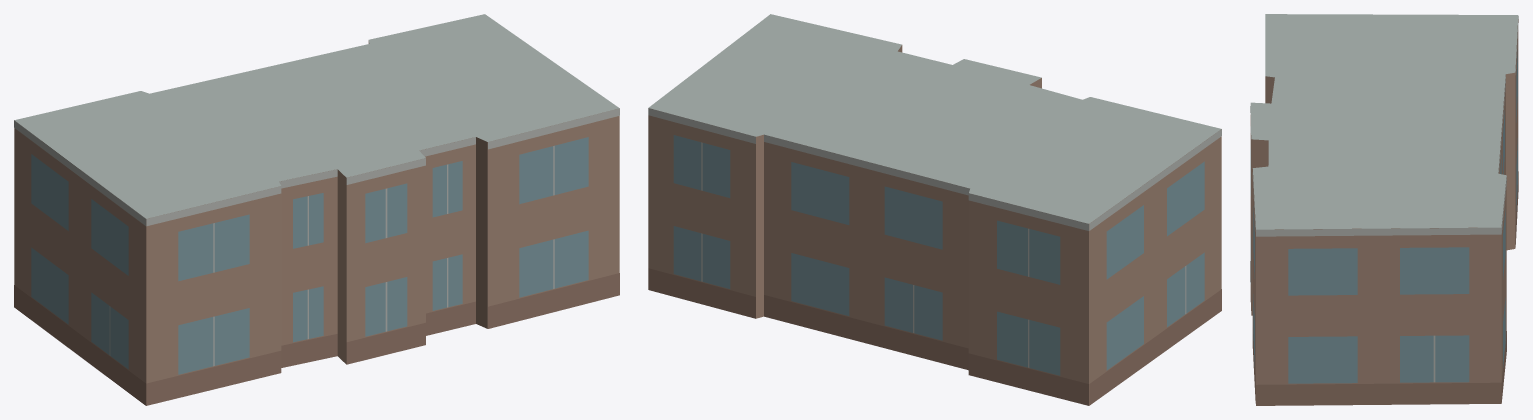
Rendered from survey-upis-32965567.glb.
3 views of the same model, side by side, from view 1: azimuth 30°, elevation 25°; view 2: azimuth 150°, elevation 25°; view 3: azimuth 270°, elevation 25° (orthographic). The views are drawn at different scales.
Visible parts, largest first — view 1: survey-upis-32965567.tmp; view 2: survey-upis-32965567.tmp; view 3: survey-upis-32965567.tmp.
Part boxes in pixels (x1,y1,x2,y2): survey-upis-32965567.tmp: (14, 14, 619, 405); survey-upis-32965567.tmp: (648, 14, 1221, 405); survey-upis-32965567.tmp: (1250, 14, 1518, 405).
Size of the model in its own units: 16.01 by 6.1 by 8.41.
